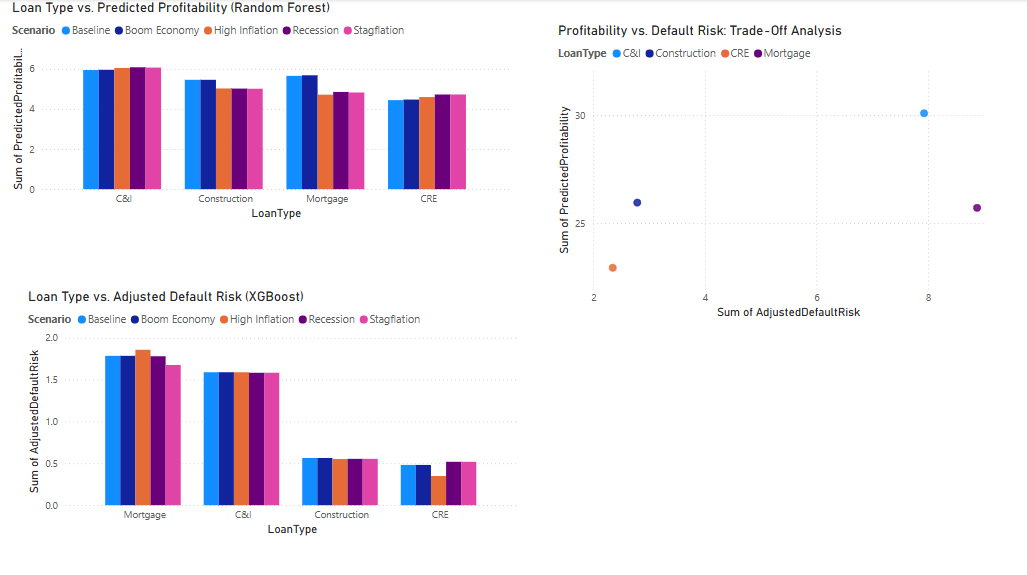

What the dashboard file says about the page in this screenshot:
{"tool":"powerbi","page":{"name":"Page 1","canvas":[1280,720],"ordinal":0},"visuals":[{"type":"clusteredColumnChart","title":"Loan Type vs. Predicted Profitability (Random Forest)","fields":{"Category":["loan_predictions.LoanType"],"Y":["Sum(loan_predictions.PredictedProfitability)"],"Series":["loan_predictions.Scenario"]},"box":[10,0,630,280.2],"z":0},{"type":"clusteredColumnChart","title":"Loan Type vs. Adjusted Default Risk (XGBoost)","fields":{"Category":["loan_predictions.LoanType"],"Y":["Sum(loan_predictions.AdjustedDefaultRisk)"],"Series":["loan_predictions.Scenario"]},"box":[29.9,359.8,621.3,313.8],"z":1000},{"type":"scatterChart","title":"Profitability vs. Default Risk: Trade-Off Analysis","fields":{"X":["Sum(loan_predictions.AdjustedDefaultRisk)"],"Y":["Sum(loan_predictions.PredictedProfitability)"],"Series":["loan_predictions.LoanType"]},"box":[689.8,28.6,544.1,374.8],"z":2000}]}

Visuals, with their boxes in screenshot pixels (x1, y1, x2, y2), scaled from the page's 1280x720 canvas onto the 1027x575 screenshot:
"Loan Type vs. Predicted Profitability (Random Forest)" clusteredColumnChart: [8,0,514,224]
"Loan Type vs. Adjusted Default Risk (XGBoost)" clusteredColumnChart: [24,287,522,538]
"Profitability vs. Default Risk: Trade-Off Analysis" scatterChart: [553,23,990,322]
